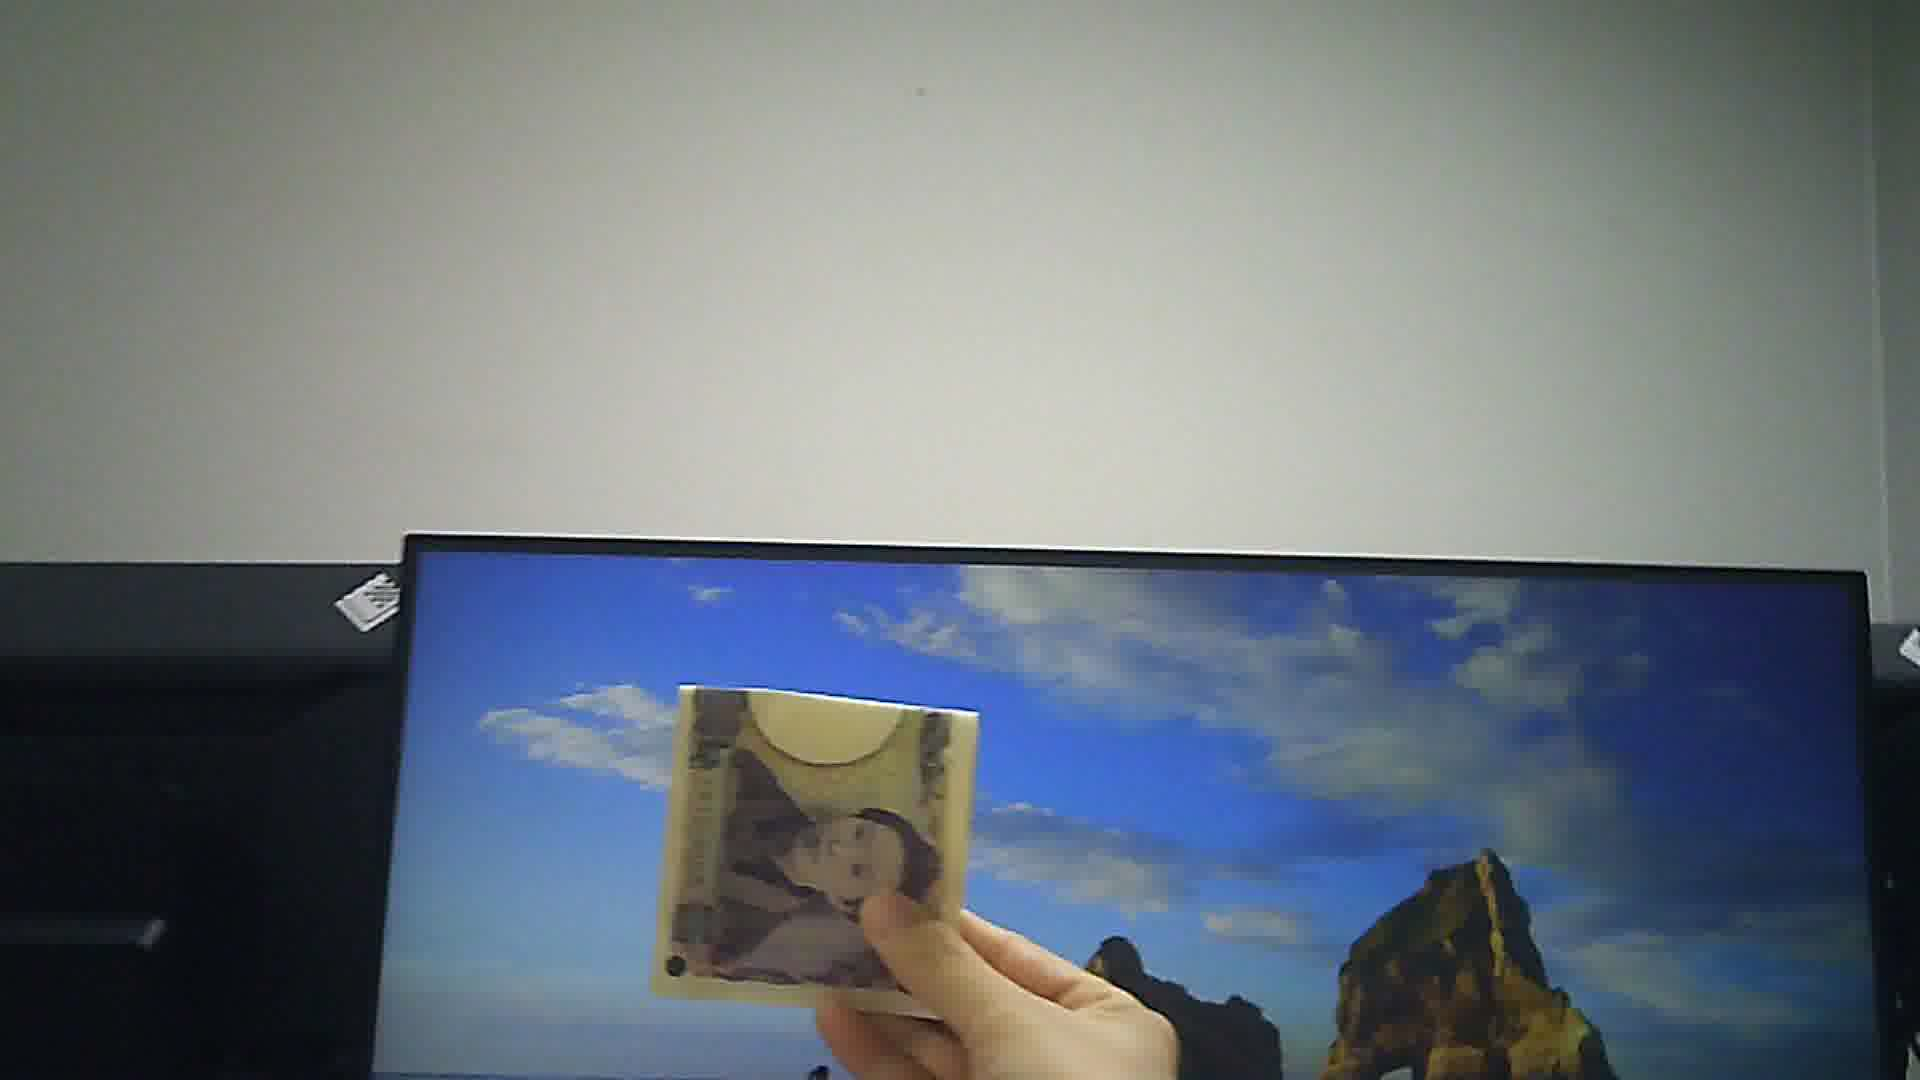5,000 Yen: (642, 671, 984, 1029)
